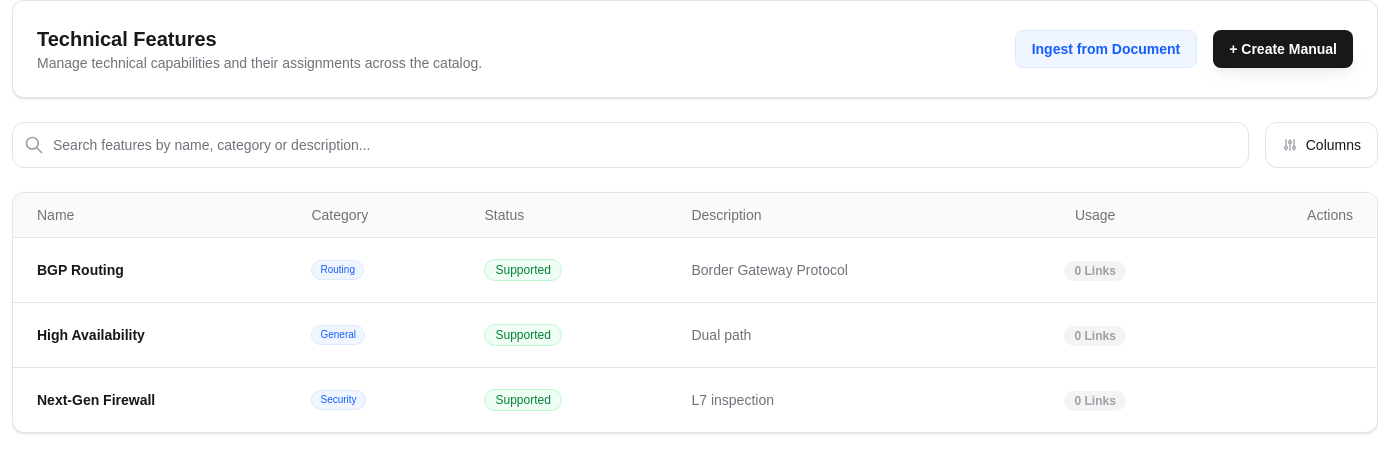
it: FeatureList Search › shows empty state when no matches found
The image size is (1390, 465).
Step 1. Type "nonexistent" into the field with placeholder "Search features by name, category or description..." → (630, 145), box [12,122,1249,168]
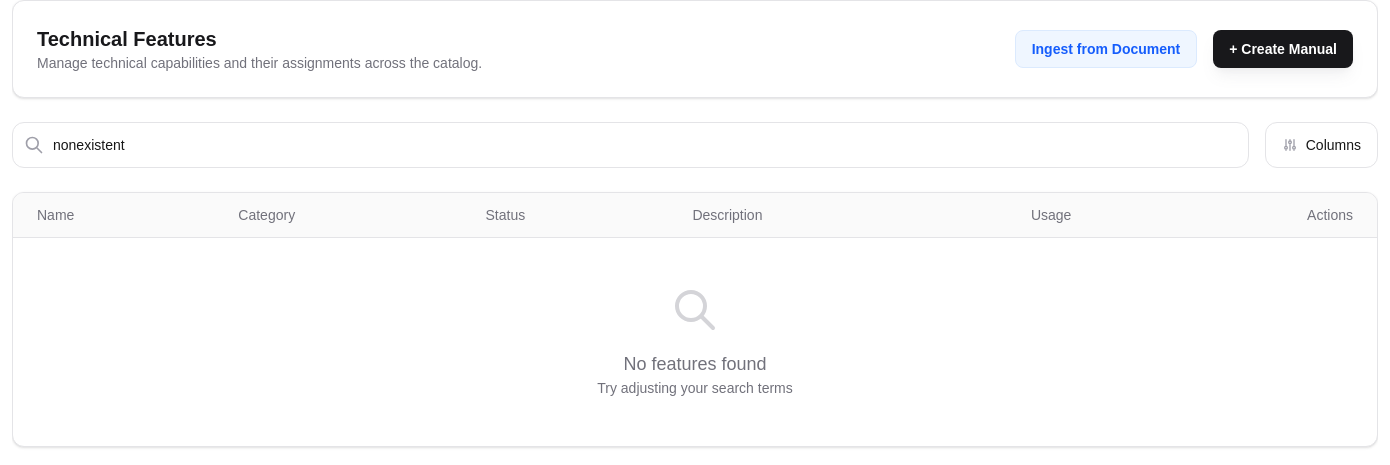
Expected: the text "No features found" is shown, [623,350,766,378]
